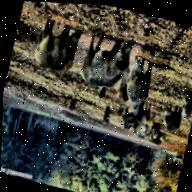boar: (74, 29, 135, 99), (23, 13, 86, 80), (122, 53, 159, 110), (153, 106, 182, 138), (175, 89, 192, 124)
